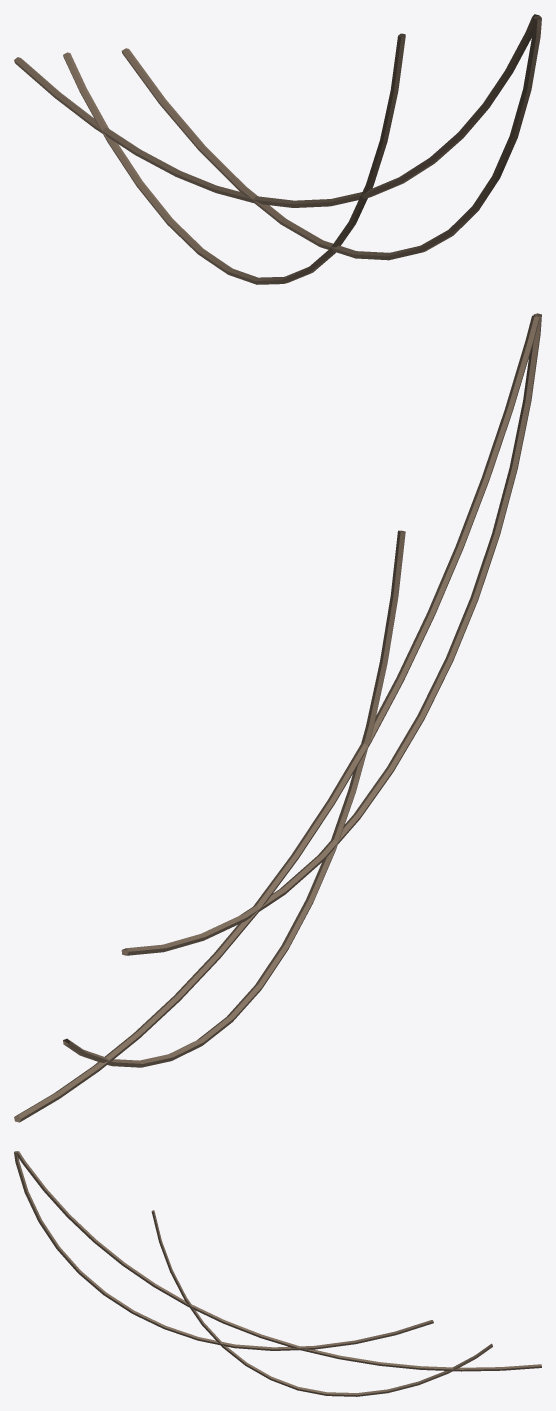
File: SM_Veh_Ship_M_01_Rigging_Front_02.fbx
3 renders of one model, top to bottom at view 1: azimuth 30°, elevation 25°; view 2: azimuth 150°, elevation 25°; view 3: azimuth 270°, elevation 25°, orthographic. The views are drawn at different scales.
Parts seen in each view (by area): view 1: SM_Veh_Ship_M_01_Rigging_Front_02; view 2: SM_Veh_Ship_M_01_Rigging_Front_02; view 3: SM_Veh_Ship_M_01_Rigging_Front_02.
Part boxes in pixels (x1=…): SM_Veh_Ship_M_01_Rigging_Front_02: x1=14, y1=14, x2=541, y2=284; SM_Veh_Ship_M_01_Rigging_Front_02: x1=14, y1=313, x2=541, y2=1122; SM_Veh_Ship_M_01_Rigging_Front_02: x1=14, y1=1151, x2=541, y2=1396.
Size of the model in its own units: 7.84 by 492 by 961.
